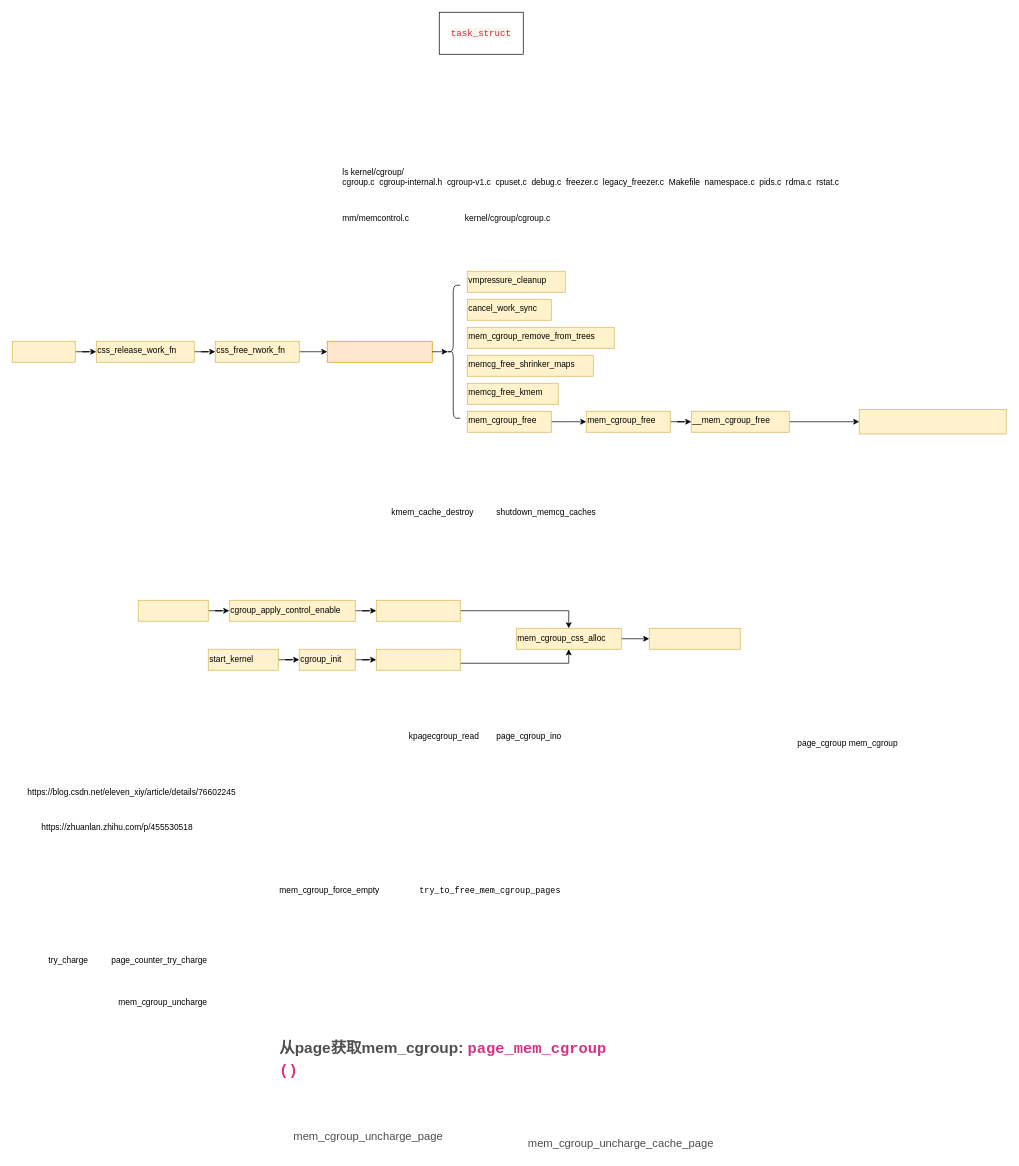
Image size: 1019x1166. Some labels were removed from this diagram. The shapes that lost their labels are listed below. From the top down, each one's centre as x and y in pixels, then its label:
pixel 43 351: css_release
pixel 379 351: mem_cgroup_css_free
pixel 932 421: free_mem_cgroup_per_node_info
pixel 173 610: cgroup_mkdir
pixel 418 610: css_create
pixel 694 638: mem_cgroup_alloc
pixel 418 659: cgroup_init_subsys
